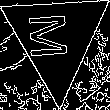M_E: (33, 14, 81, 63)
